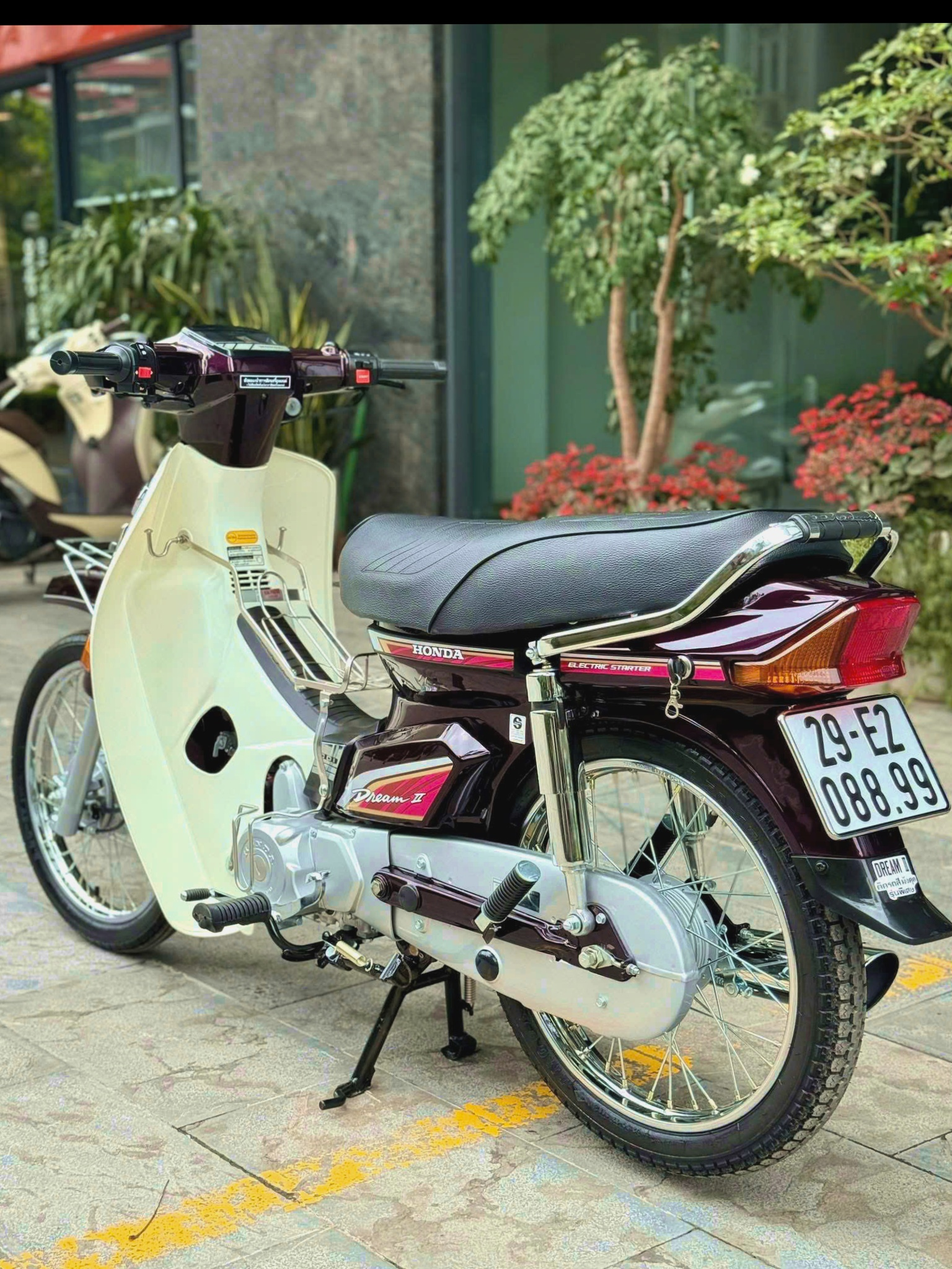Bien-so: (781, 690, 952, 833)
